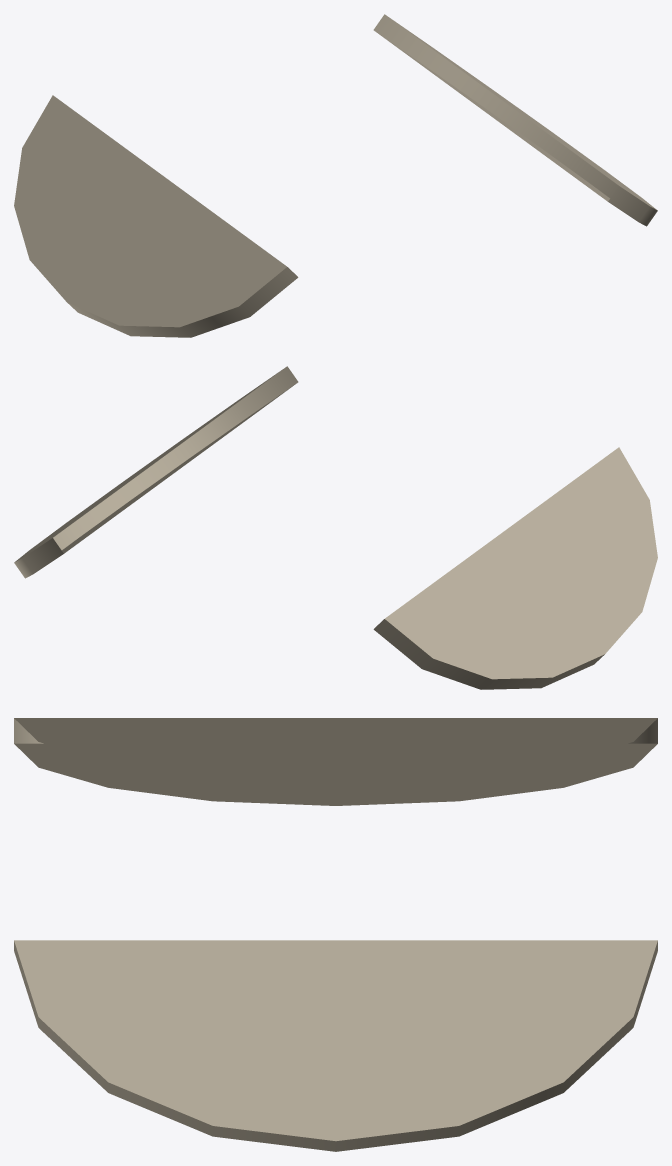
The model's file is RobotShieldGen.fbx.
3 renders of one model, top to bottom at view 1: azimuth 30°, elevation 25°; view 2: azimuth 150°, elevation 25°; view 3: azimuth 270°, elevation 25°, orthographic. The views are drawn at different scales.
Visible parts, largest first — view 1: ShieldGenerator; view 2: ShieldGenerator; view 3: ShieldGenerator.
Part boxes in pixels (<box>): ShieldGenerator: <box>14,14,657,337</box>; ShieldGenerator: <box>14,366,657,689</box>; ShieldGenerator: <box>14,718,657,1151</box>.
Size of the model in its own units: 10.15 by 1.96 by 7.65.
